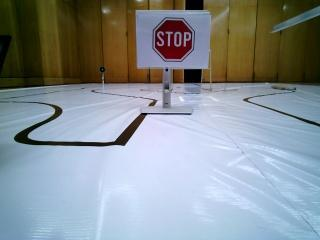stop: (139, 16, 207, 70)
